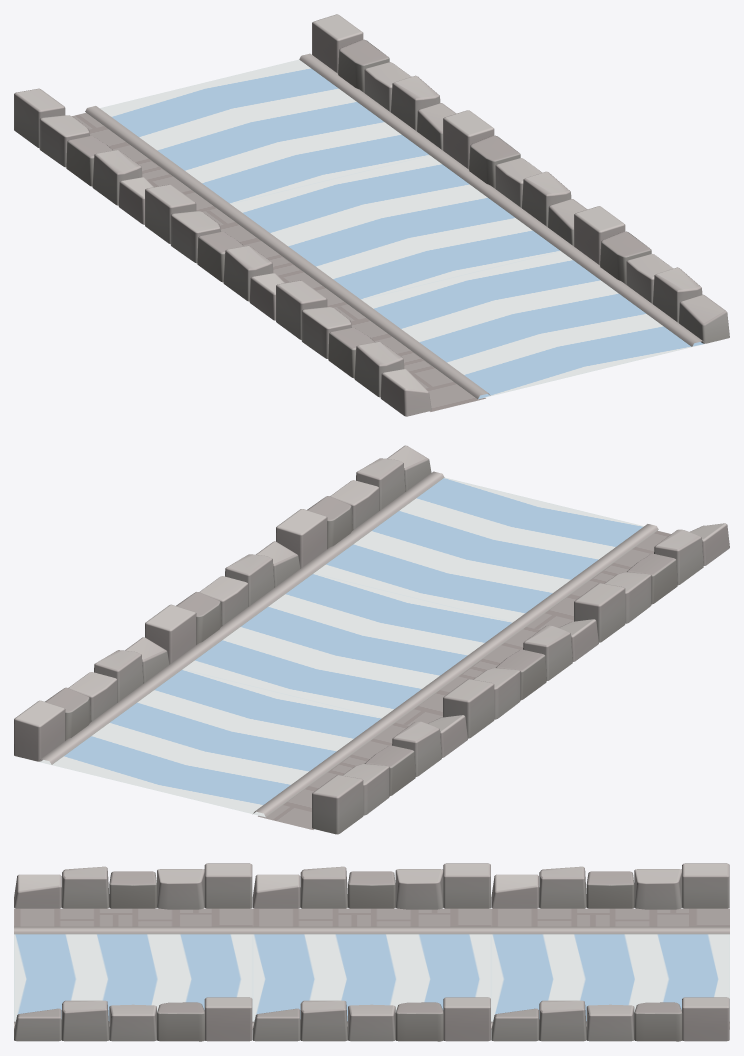
Rendered from rock line long.fbx.
The picture shows the model from 3 angles, top to bottom: view 1: azimuth 30°, elevation 25°; view 2: azimuth 150°, elevation 25°; view 3: azimuth 270°, elevation 25°; orthographic projection. The views are drawn at different scales.
Visible parts, largest first — view 1: rock line; view 2: rock line; view 3: rock line.
Part boxes in pixels (x1,y1,x2,y2): rock line: (14, 14, 729, 416); rock line: (14, 445, 729, 834); rock line: (14, 863, 729, 1041).
Size of the model in its own units: 720 by 80.66 by 1500.
